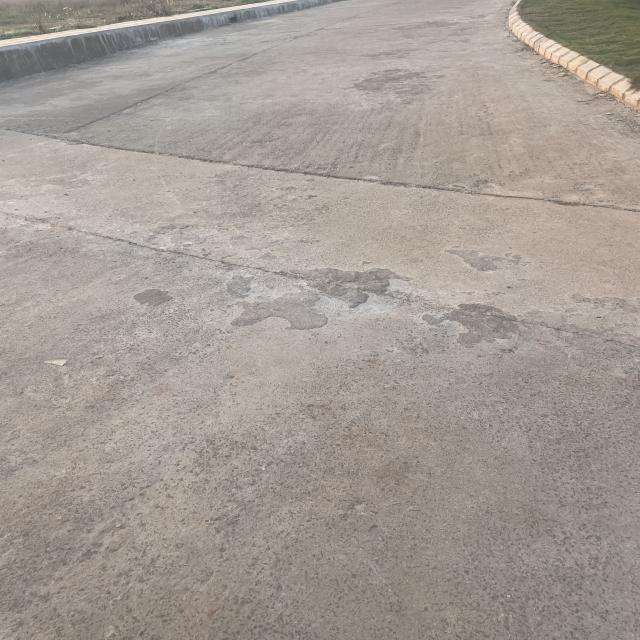D43: (23, 102, 611, 376)
